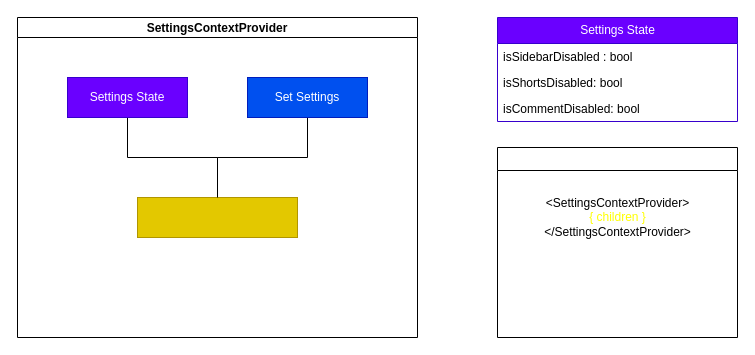
The diagram is 755 pixels wide and 355 high, and some of its shapes have lost their labels. Here are the shapes that lost their labels. From the top down, the box of each, then its label:
(136, 196, 298, 238): Children Components
(496, 146, 738, 338): Context Usage
